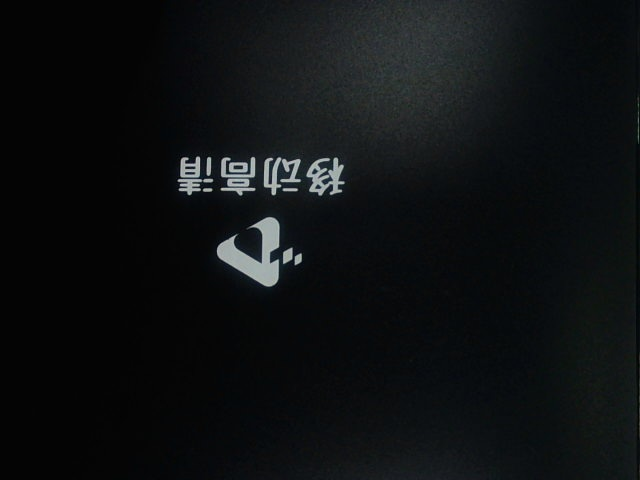AO_MobileHD: (162, 137, 354, 306)
